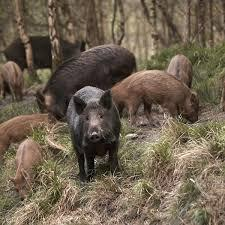wildboar: (34, 43, 138, 120), (66, 85, 124, 181), (110, 69, 202, 129), (7, 137, 46, 202)
